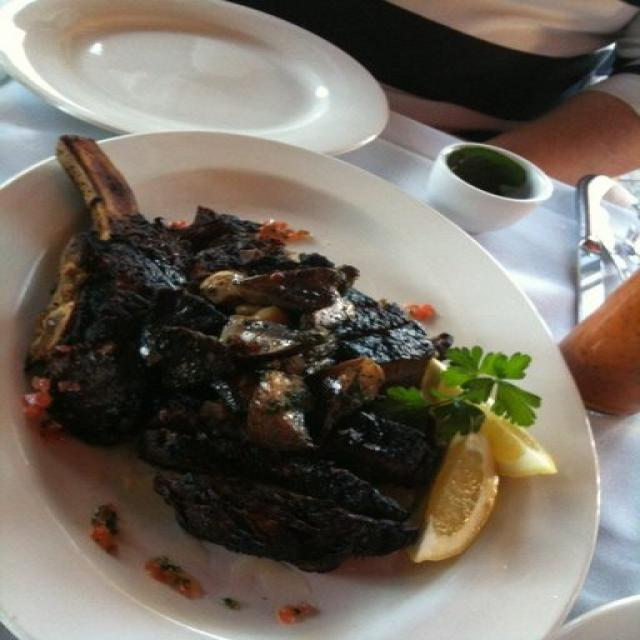Steak: (12, 123, 457, 555)
